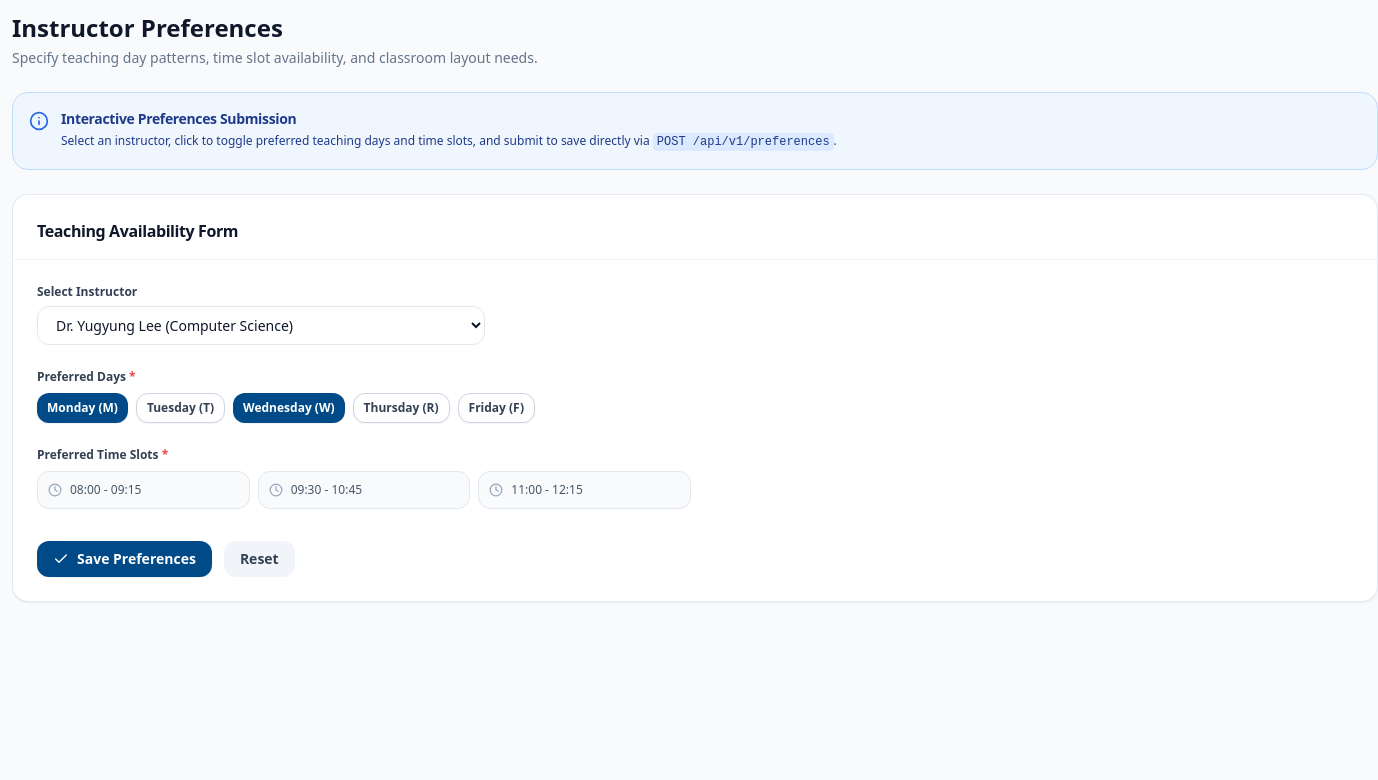
PreferencesPage Component › handles API submission errors gracefully with error toast
This screenshot has width=1378, height=780.
# Select a time slot
Step 1. Click the button with test id "slot-11:00-12:15" → (585,490), box [478,470,691,508]
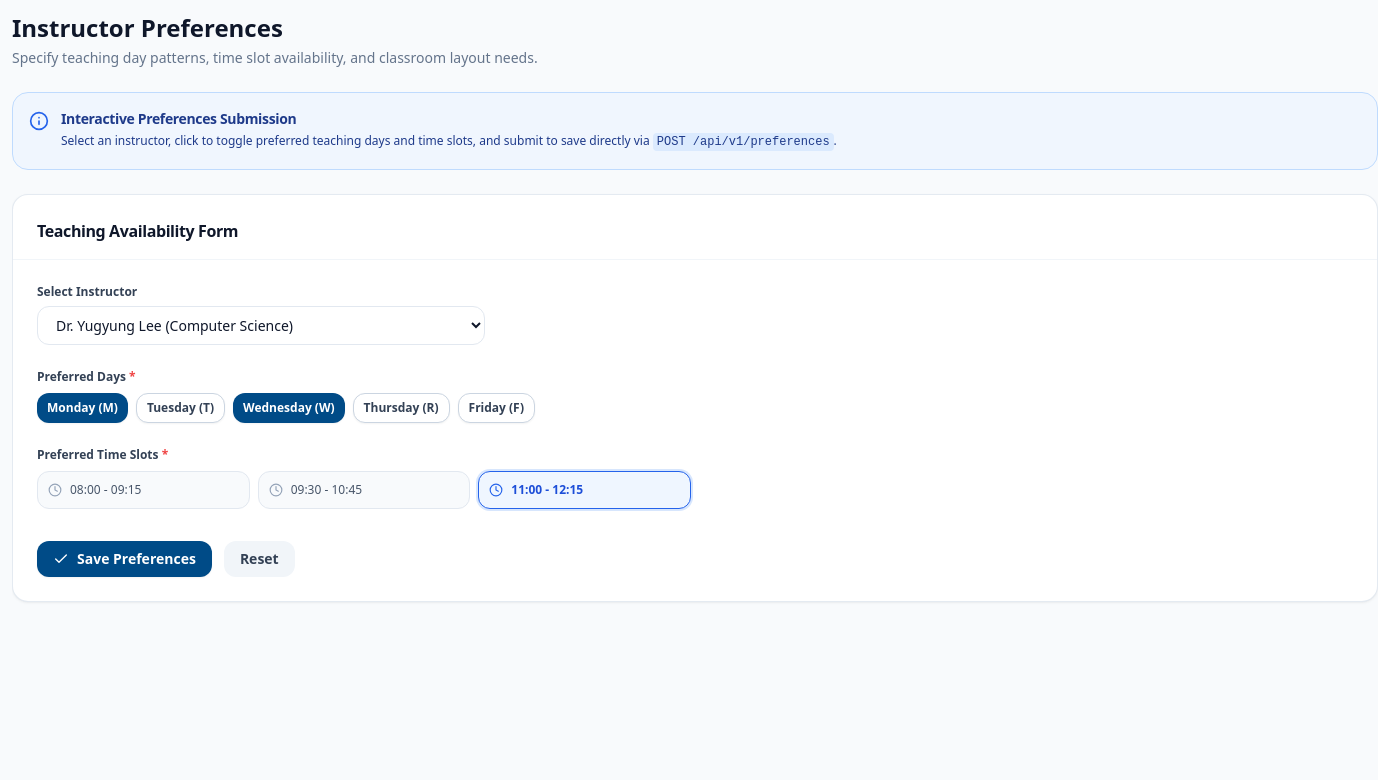
# Click Save
Step 2. Click the button "Save Preferences" → (124,558), box [37,540,212,576]
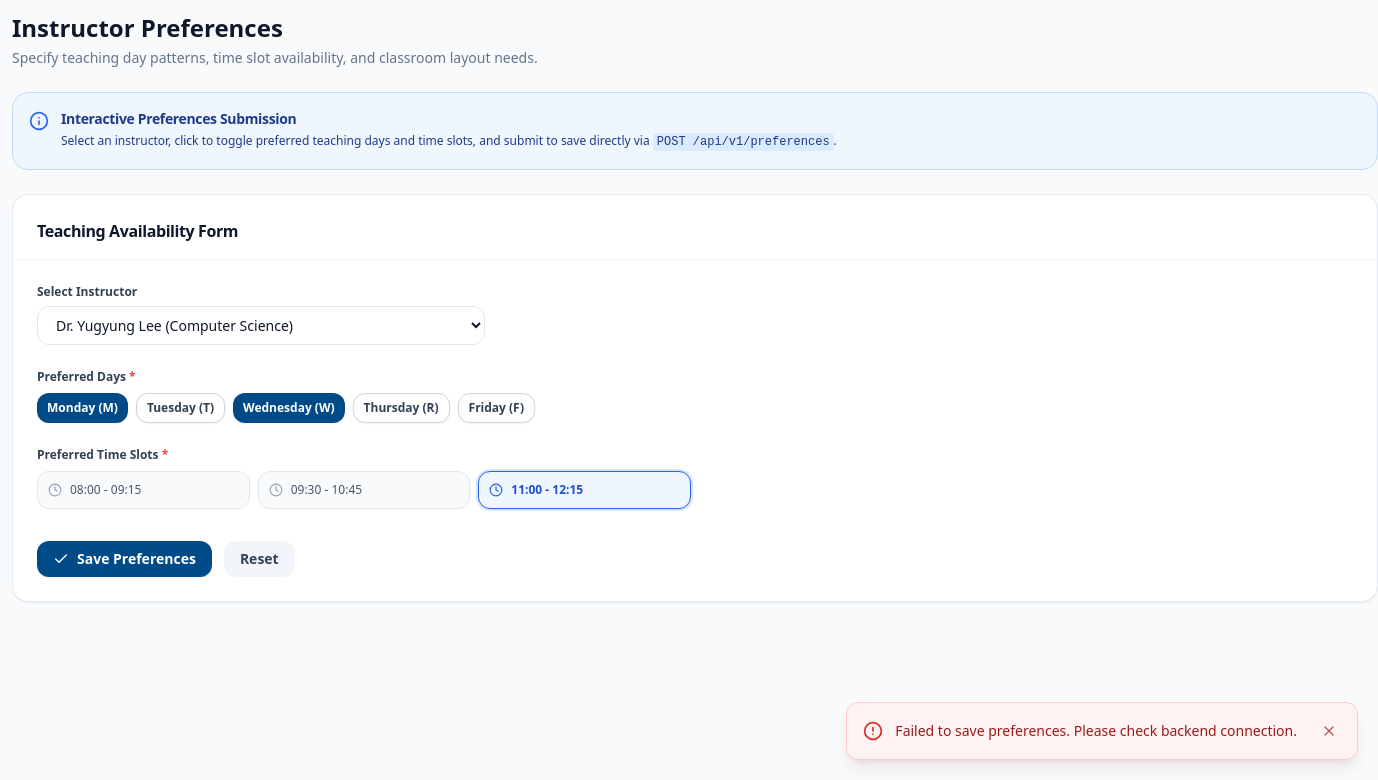
expect the text "Failed to save preferences. Please check backend connection." is shown: met, box [895,721,1305,741]
